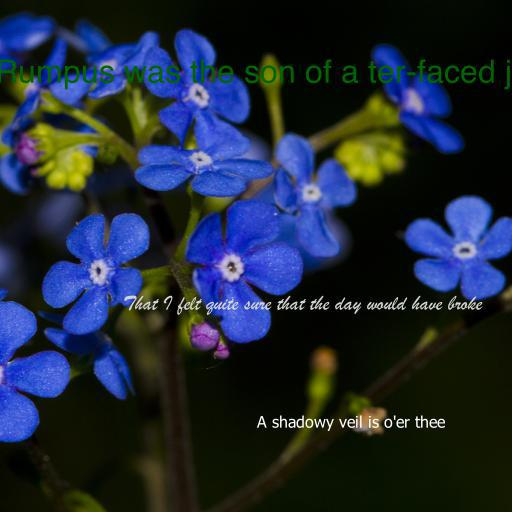Brush Script MT: (122, 295, 482, 316)
Helvetica: (0, 59, 512, 90)
Tahoma: (257, 415, 445, 431)
